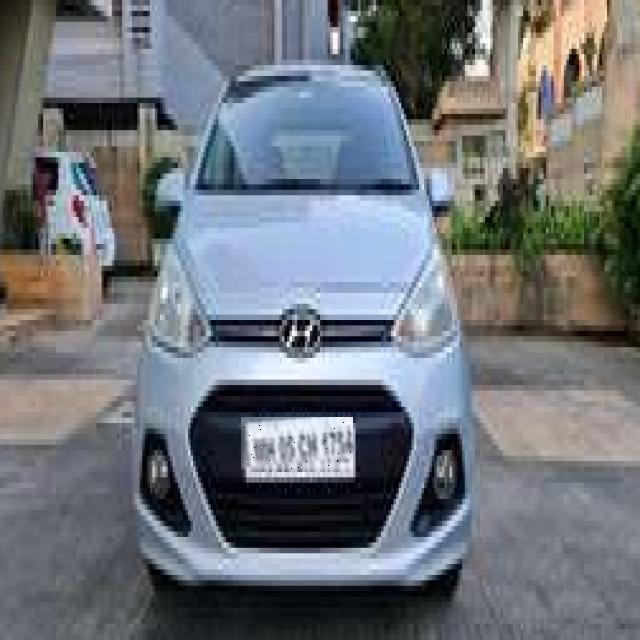Plate: (242, 419, 354, 473)
